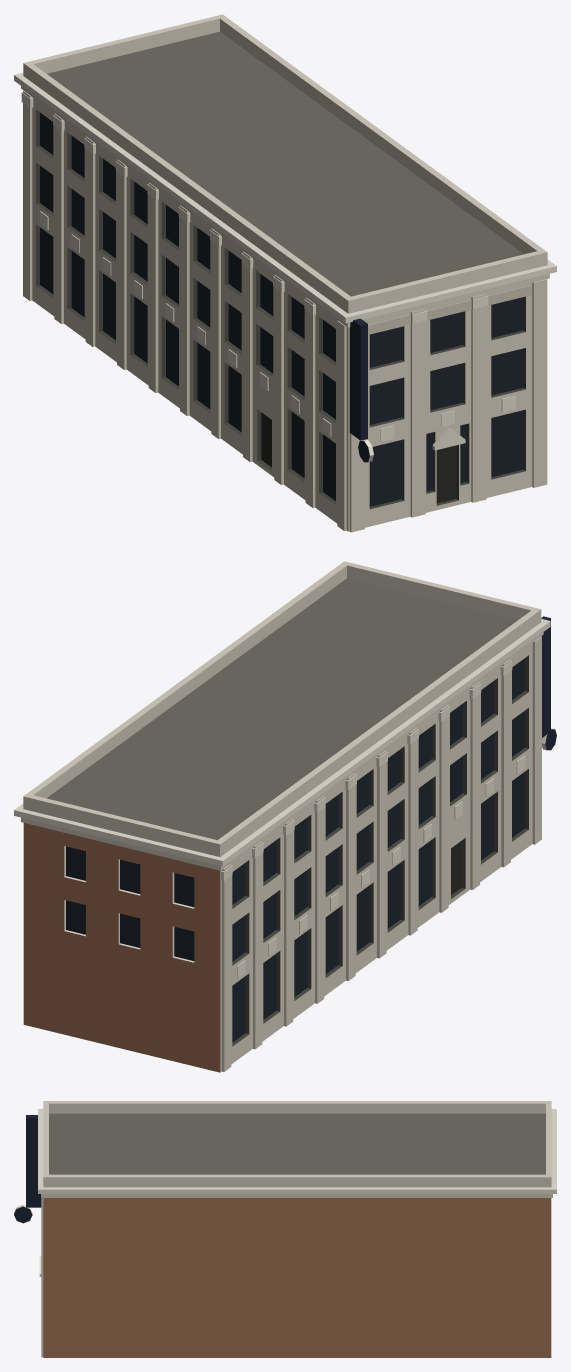
The model's file is worthen-bank-1928.glb.
3 views of the same model, one above another, from view 1: azimuth 30°, elevation 25°; view 2: azimuth 150°, elevation 25°; view 3: azimuth 270°, elevation 25° (orthographic). The views are drawn at different scales.
Parts seen in each view (by area): view 1: worthen_stone, worthen_roof, worthen_glass, worthen_sash, worthen_trim, worthen_sign, worthen_dark, worthen_stone2; view 2: worthen_stone, worthen_roof, worthen_brick, worthen_glass, worthen_trim, worthen_sash, worthen_sign; view 3: worthen_brick, worthen_roof, worthen_stone, worthen_trim, worthen_sign.
Boxes of the visible parts, <box> form: worthen_stone: <box>21,14,549,532</box>; worthen_roof: <box>47,31,523,296</box>; worthen_glass: <box>40,112,523,506</box>; worthen_sash: <box>36,109,525,509</box>; worthen_trim: <box>14,73,556,461</box>; worthen_sign: <box>349,318,369,462</box>; worthen_dark: <box>261,412,456,503</box>; worthen_stone2: <box>368,285,532,334</box>; worthen_stone: <box>21,561,543,1072</box>; worthen_roof: <box>46,578,517,839</box>; worthen_brick: <box>23,823,220,1072</box>; worthen_glass: <box>66,658,524,1042</box>; worthen_trim: <box>14,619,554,978</box>; worthen_sash: <box>232,655,528,1046</box>; worthen_sign: <box>541,616,556,750</box>; worthen_brick: <box>43,1198,551,1357</box>; worthen_roof: <box>49,1113,545,1174</box>; worthen_stone: <box>41,1101,552,1357</box>; worthen_trim: <box>14,1109,556,1276</box>; worthen_sign: <box>14,1115,41,1223</box>.
Bounding box in the file's own units: 15.4 × 16.1 × 43.83.
